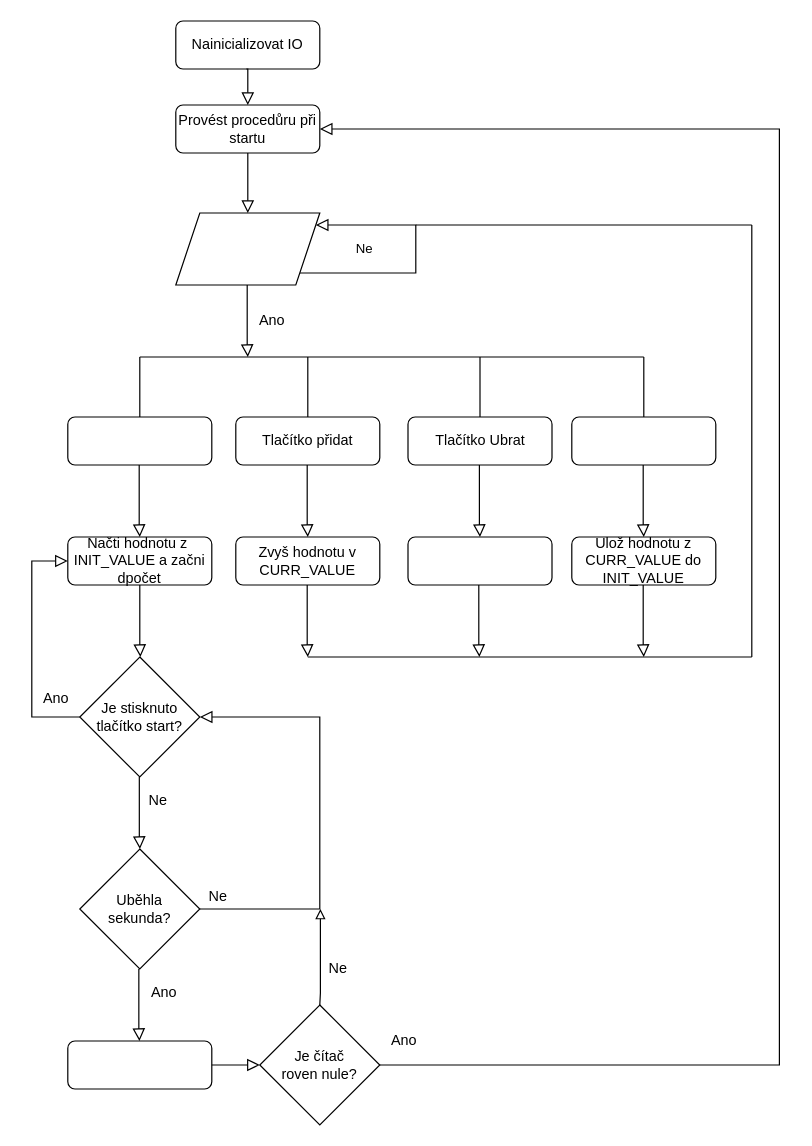
The diagram is 812 pixels wide and 1146 high, and some of its shapes have lost their labels. The shapes that lost their labels are listed below. From the top down, each one's centre as x and y in pixels, then its label:
At [247,248]: "Je stisknuté nějaké tlačítko?".
At [139,440]: "Tlačítko start".
At [643,440]: "Tlačítko Potvrdit".
At [479,560]: "Sniž hodnotu v CURR_VALUE".
At [139,1064]: "Uprav hodnotu CURR_VALUE a hodnotu zobraz".
